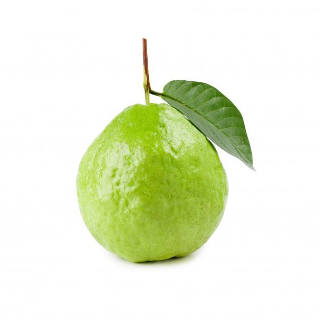oi: (72, 82, 236, 265)
